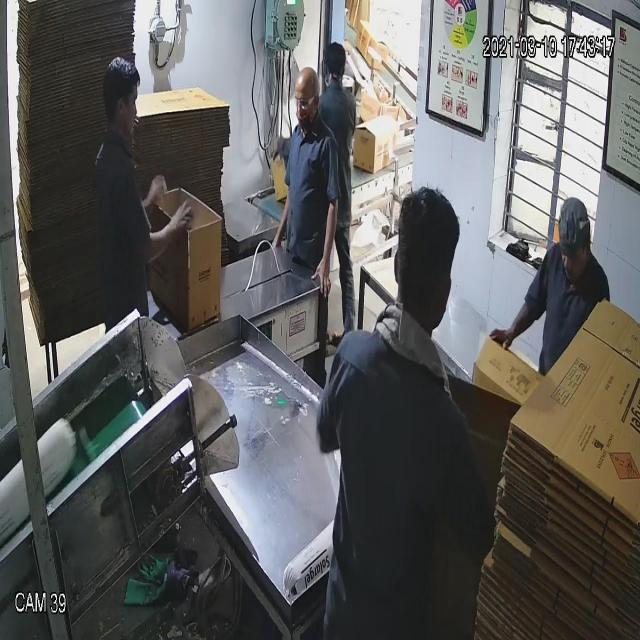No_Gloves: (32, 68, 514, 330)
